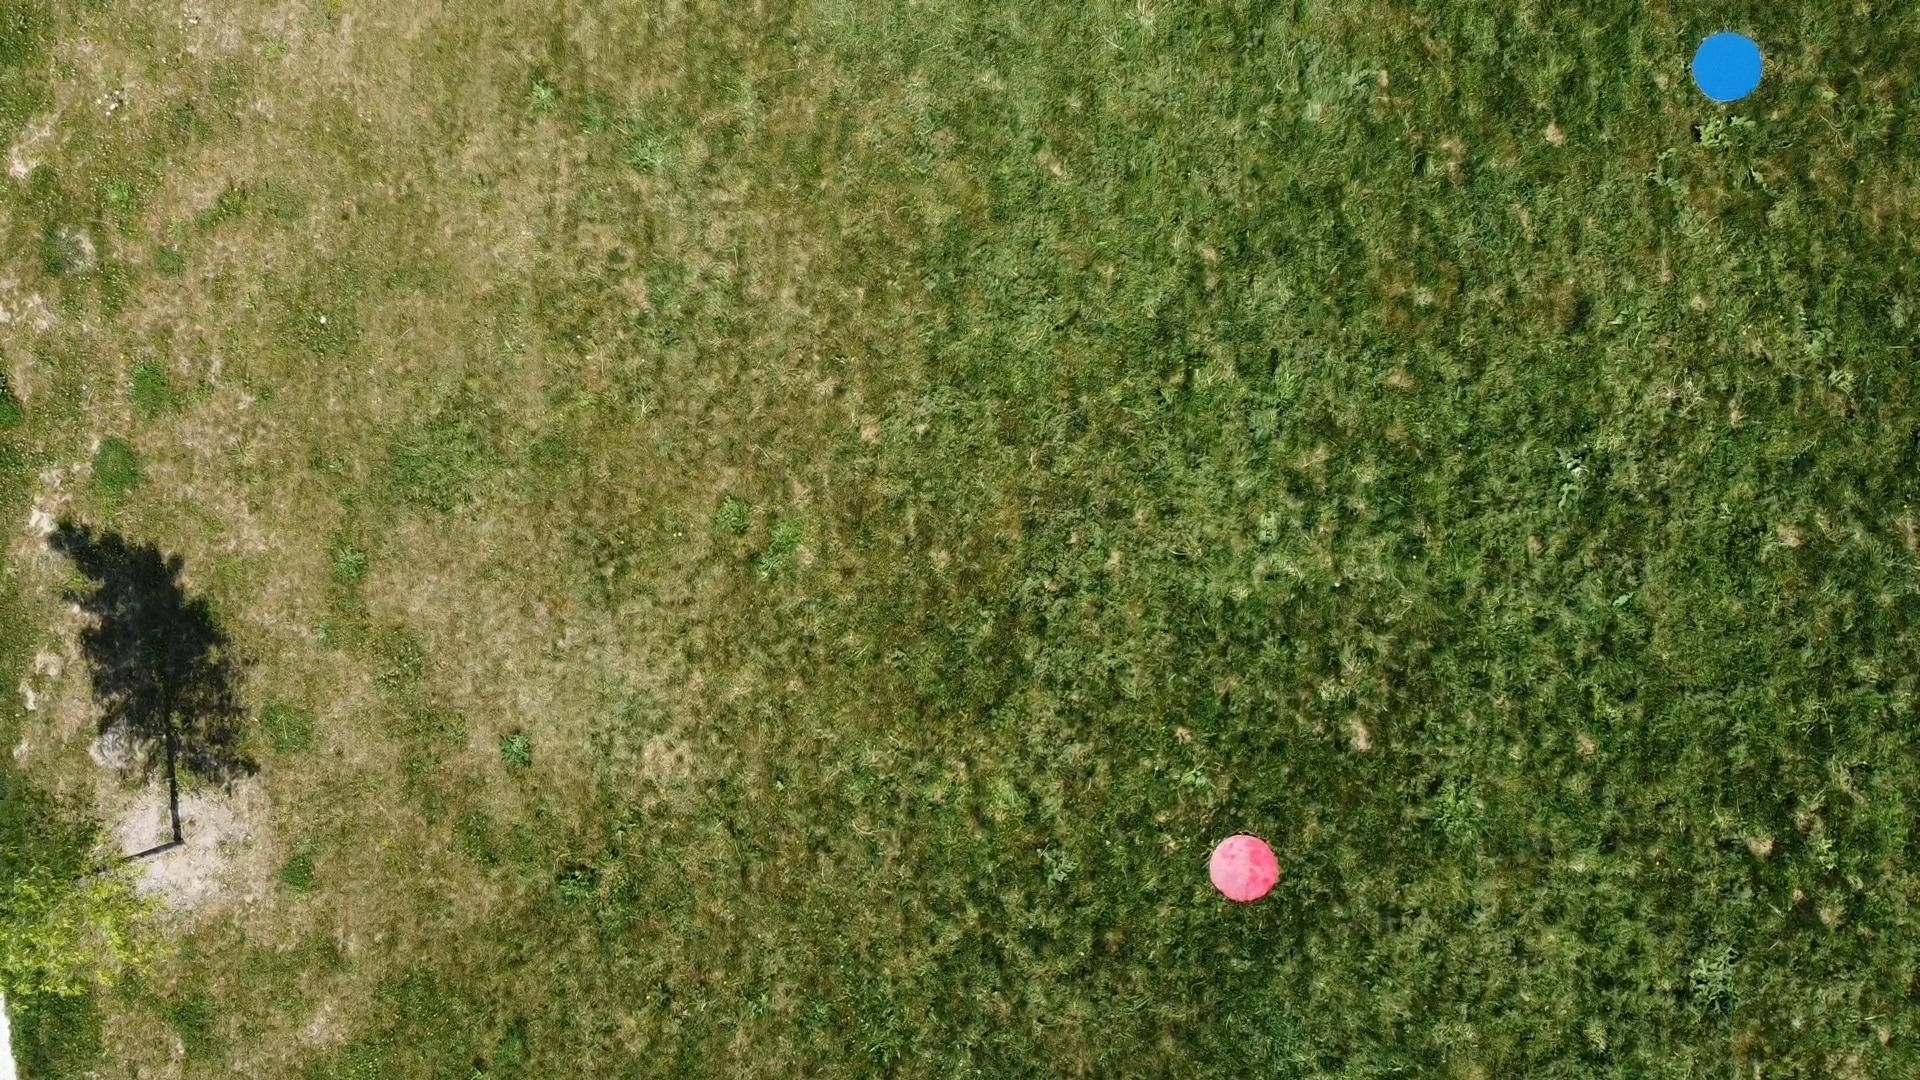Blue: (1689, 30, 1766, 104)
Red: (1207, 831, 1283, 906)
